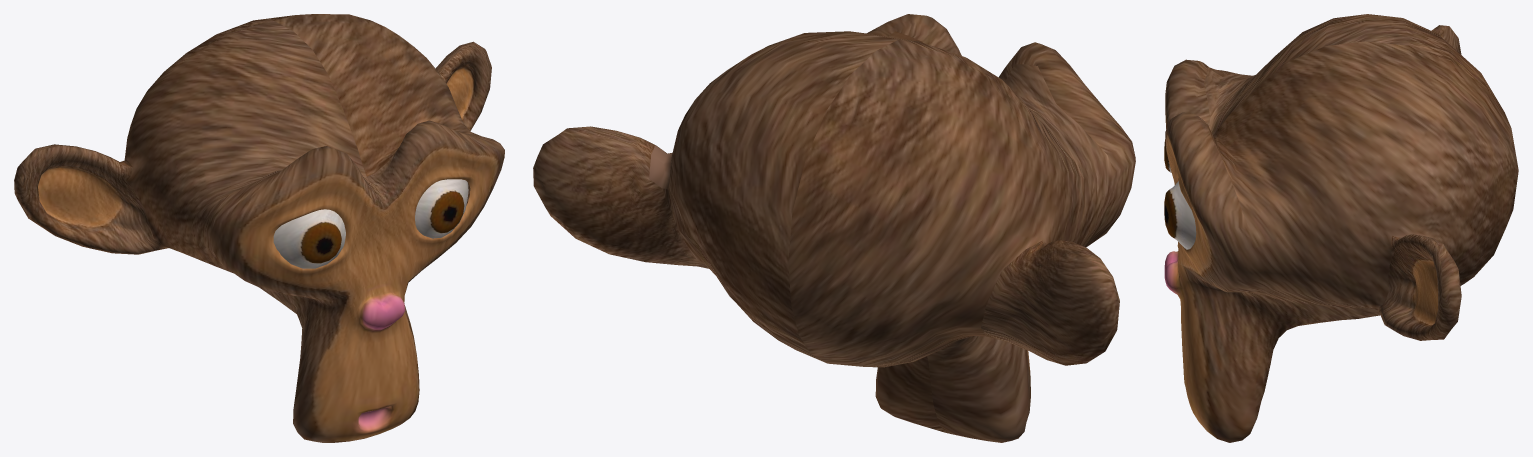
Rendered from monkey.gltf.
3 renders of one model, left to right at view 1: azimuth 30°, elevation 25°; view 2: azimuth 150°, elevation 25°; view 3: azimuth 270°, elevation 25°, orthographic. The views are drawn at different scales.
Visible parts, largest first — view 1: Suzanne; view 2: Suzanne; view 3: Suzanne.
Part boxes in pixels (x1=…): Suzanne: x1=14, y1=14, x2=504, y2=442; Suzanne: x1=533, y1=14, x2=1135, y2=442; Suzanne: x1=1164, y1=14, x2=1518, y2=442.
Size of the model in its own units: 2.65 by 1.91 by 1.6.
1 material, 1 textured.
